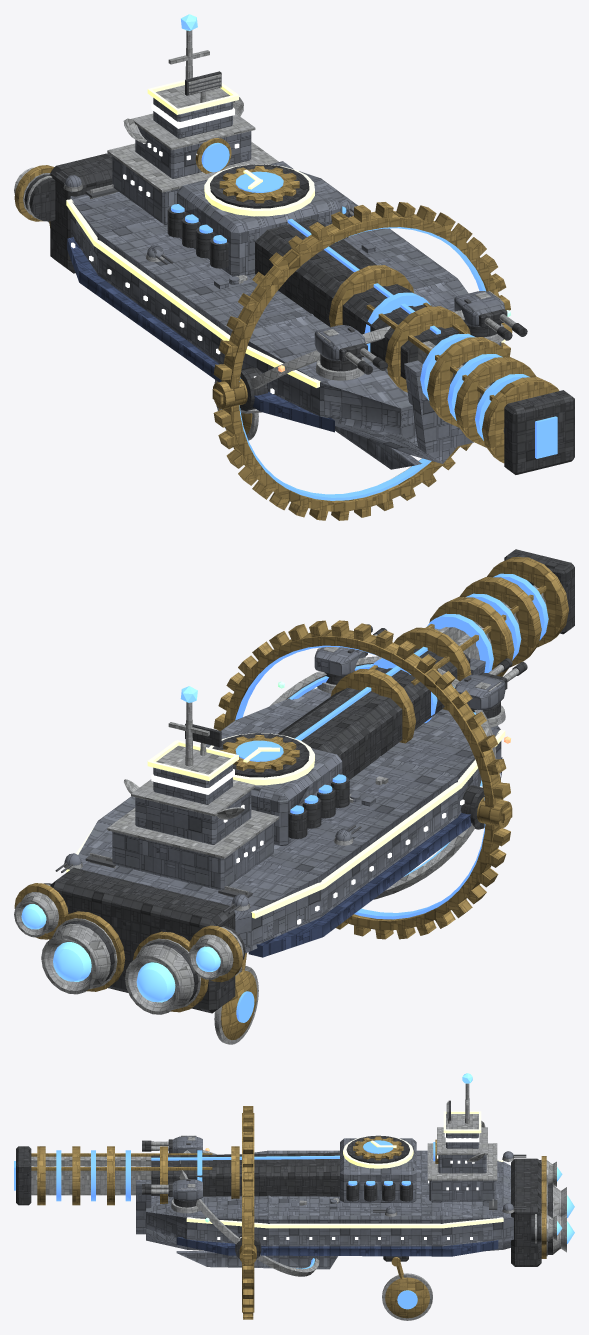
Rendered from pendulum_wreck.glb.
The picture shows the model from 3 angles, top to bottom: view 1: azimuth 30°, elevation 25°; view 2: azimuth 150°, elevation 25°; view 3: azimuth 270°, elevation 25°; orthographic projection. The views are drawn at different scales.
Parts seen in each view (by area): view 1: pendulum_wreck_06, pendulum_wreck_19, pendulum_wreck_00, pendulum_wreck_02, pendulum_wreck_13, pendulum_wreck_01, pendulum_wreck_12, pendulum_wreck_18, pendulum_wreck_07, pendulum_wreck_04, pendulum_wreck_17, pendulum_wreck_16 (+7 smaller); view 2: pendulum_wreck_04, pendulum_wreck_19, pendulum_wreck_13, pendulum_wreck_06, pendulum_wreck_12, pendulum_wreck_14, pendulum_wreck_07, pendulum_wreck_00, pendulum_wreck_17, pendulum_wreck_01, pendulum_wreck_02, pendulum_wreck_18 (+9 smaller); view 3: pendulum_wreck_16, pendulum_wreck_00, pendulum_wreck_09, pendulum_wreck_03, pendulum_wreck_14, pendulum_wreck_13, pendulum_wreck_17, pendulum_wreck_01, pendulum_wreck_02, pendulum_wreck_04, pendulum_wreck_05, pendulum_wreck_15 (+6 smaller).
Part boxes in pixels (<box>): pendulum_wreck_06: <box>212,287,367,463</box>; pendulum_wreck_19: <box>122,205,284,351</box>; pendulum_wreck_00: <box>329,292,527,421</box>; pendulum_wreck_02: <box>474,355,574,474</box>; pendulum_wreck_13: <box>107,83,278,179</box>; pendulum_wreck_01: <box>151,144,324,246</box>; pendulum_wreck_12: <box>66,173,168,318</box>; pendulum_wreck_18: <box>379,341,509,458</box>; pendulum_wreck_07: <box>252,202,410,293</box>; pendulum_wreck_04: <box>14,152,131,273</box>; pendulum_wreck_17: <box>276,251,503,363</box>; pendulum_wreck_16: <box>285,191,436,279</box>; pendulum_wreck_04: <box>47,857,253,1014</box>; pendulum_wreck_19: <box>274,744,437,899</box>; pendulum_wreck_13: <box>99,740,262,880</box>; pendulum_wreck_06: <box>399,682,512,876</box>; pendulum_wreck_12: <box>229,824,371,957</box>; pendulum_wreck_14: <box>14,840,145,976</box>; pendulum_wreck_07: <box>308,620,472,763</box>; pendulum_wreck_00: <box>325,597,527,724</box>; pendulum_wreck_17: <box>293,659,445,772</box>; pendulum_wreck_01: <box>209,733,333,845</box>; pendulum_wreck_02: <box>459,549,574,638</box>; pendulum_wreck_18: <box>446,591,561,676</box>; pendulum_wreck_16: <box>279,1153,384,1255</box>; pendulum_wreck_00: <box>107,1135,209,1227</box>; pendulum_wreck_09: <box>360,1182,474,1256</box>; pendulum_wreck_03: <box>184,1211,315,1307</box>; pendulum_wreck_14: <box>467,1186,569,1266</box>; pendulum_wreck_13: <box>412,1121,497,1215</box>; pendulum_wreck_17: <box>180,1153,286,1230</box>; pendulum_wreck_01: <box>317,1127,440,1195</box>; pendulum_wreck_02: <box>14,1146,94,1205</box>; pendulum_wreck_04: <box>485,1151,574,1258</box>; pendulum_wreck_05: <box>382,1256,432,1320</box>; pendulum_wreck_15: <box>188,1134,286,1225</box>.
Bounding box in the file's own units: 4.18 × 5.34 × 10.99.
13 materials, 6 textured.
